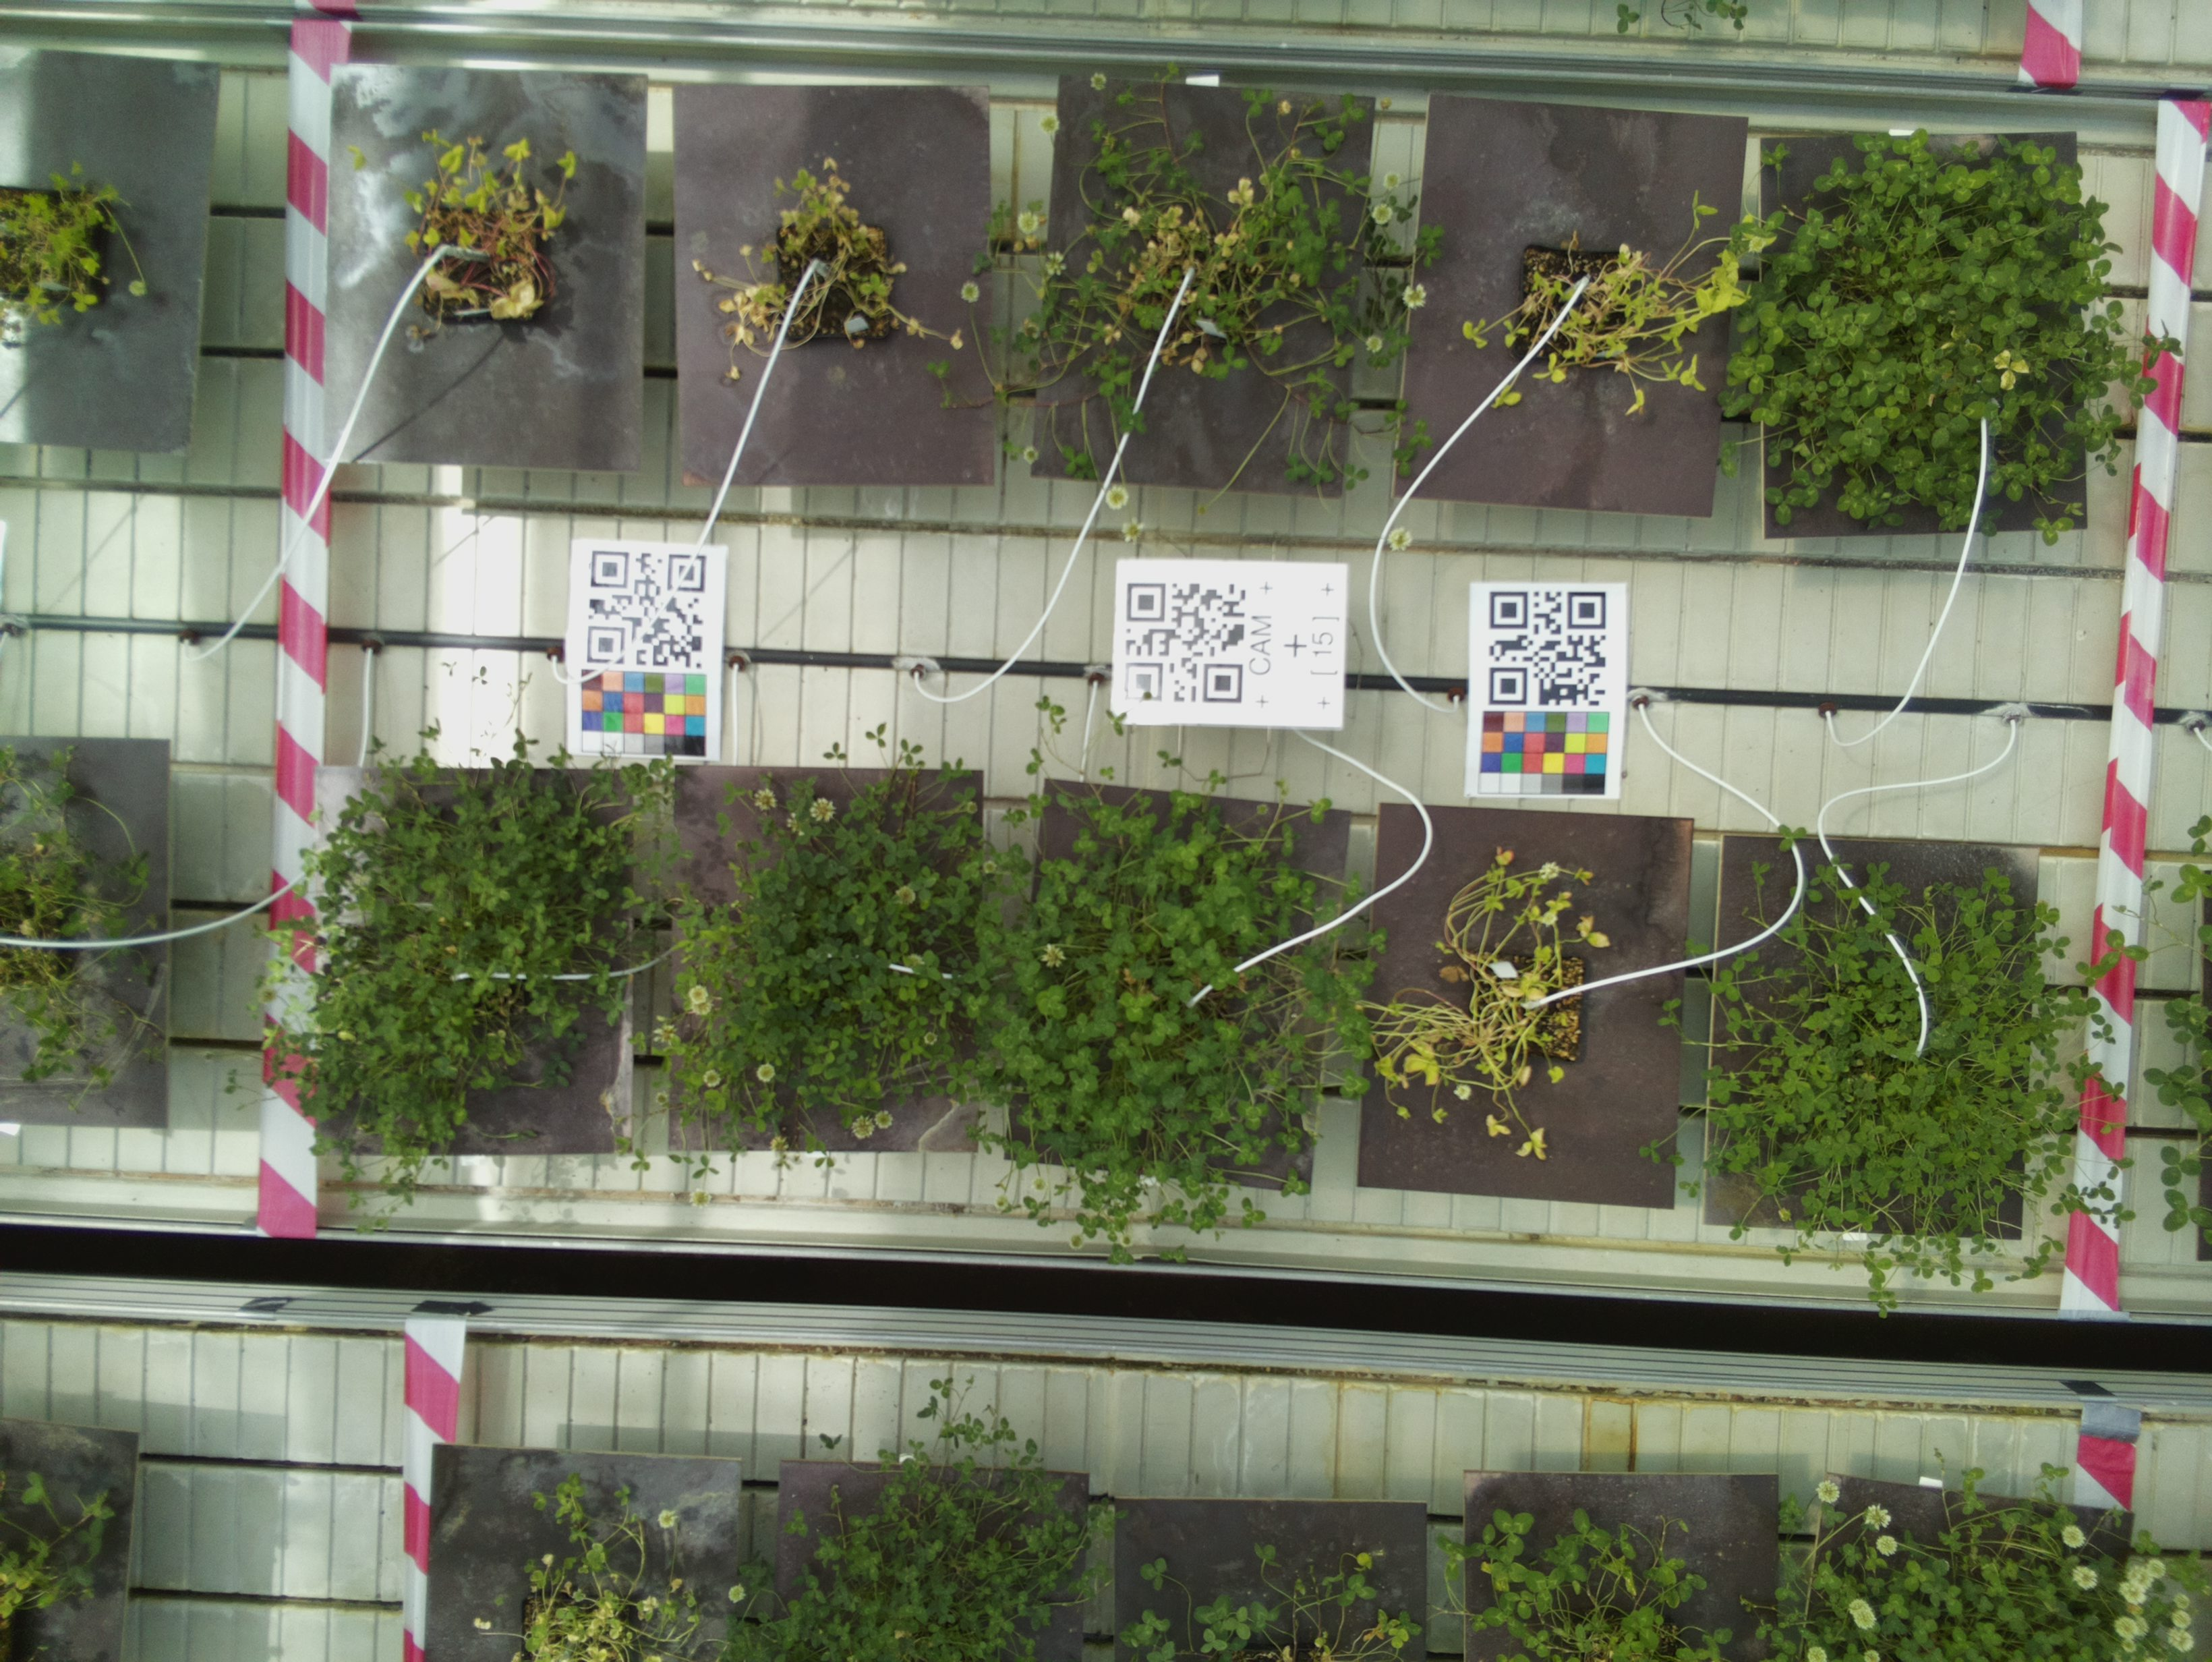POT: (1753, 124, 2097, 543), (1000, 786, 1351, 1192), (1393, 106, 1753, 499), (1713, 828, 2043, 1248), (1028, 86, 1381, 473), (670, 82, 1000, 487), (309, 761, 639, 1163), (326, 65, 646, 477), (1365, 796, 1678, 1213), (667, 758, 986, 1157)
QRCODE: (1110, 555, 1351, 731)
QRCOLOR: (566, 536, 730, 766), (1465, 580, 1627, 801)
